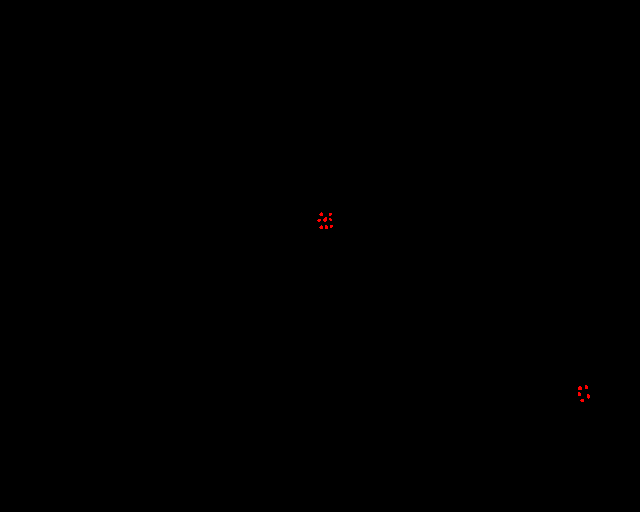Target: (323, 217, 327, 222), (319, 212, 323, 216), (319, 225, 323, 229), (578, 386, 582, 390), (587, 394, 590, 399), (317, 219, 321, 222), (325, 225, 328, 229), (585, 385, 588, 389), (578, 392, 581, 396), (580, 399, 584, 402), (329, 213, 332, 216), (329, 218, 332, 221), (330, 225, 333, 228)
